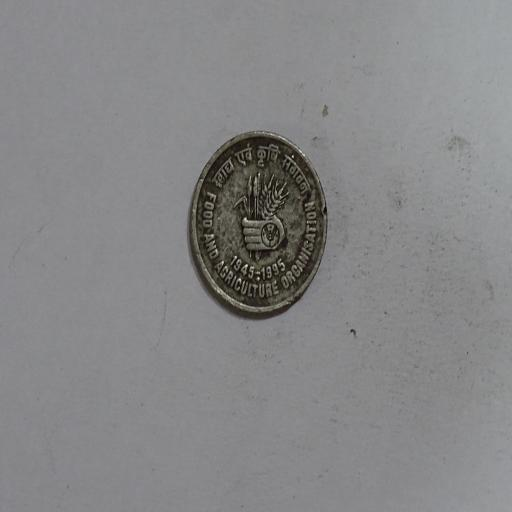rupee5: (182, 129, 328, 320)
